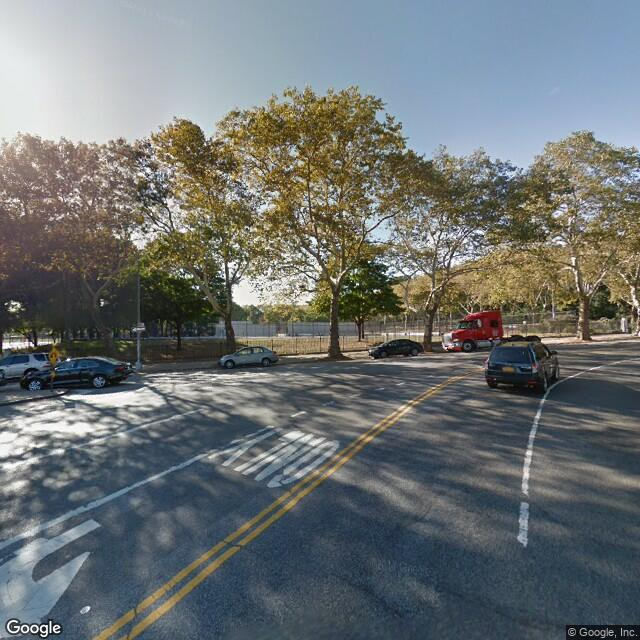litter: (78, 603, 94, 616)
